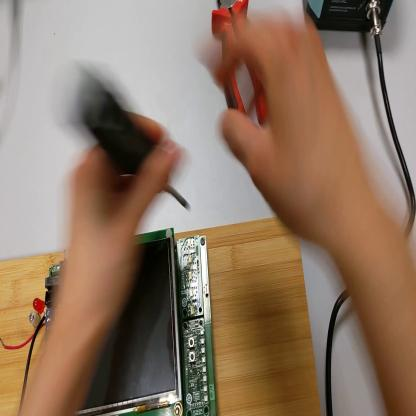hand: (196, 11, 368, 245), (60, 104, 180, 346)
low voltage board: (4, 233, 218, 416)
pliers: (212, 3, 267, 129)
screwdriver-: (73, 73, 193, 219)
welder station: (304, 2, 394, 36)
working area: (3, 222, 323, 416)
